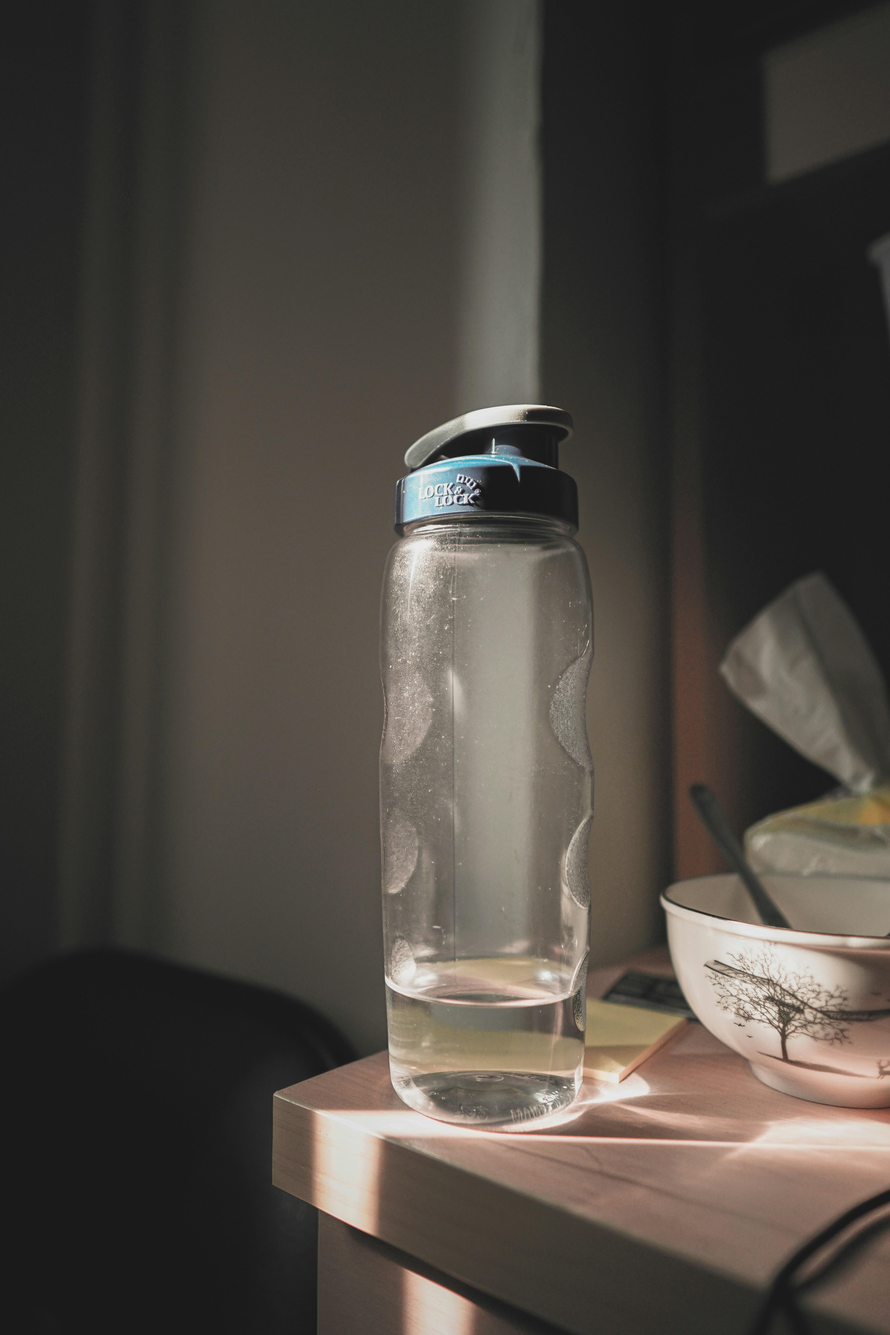Bottle-Detection: (307, 313, 666, 1187)
